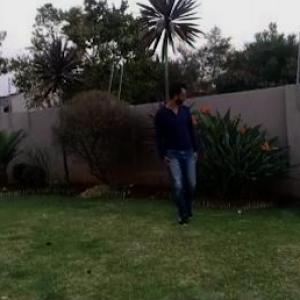follow: (152, 68, 207, 238)
